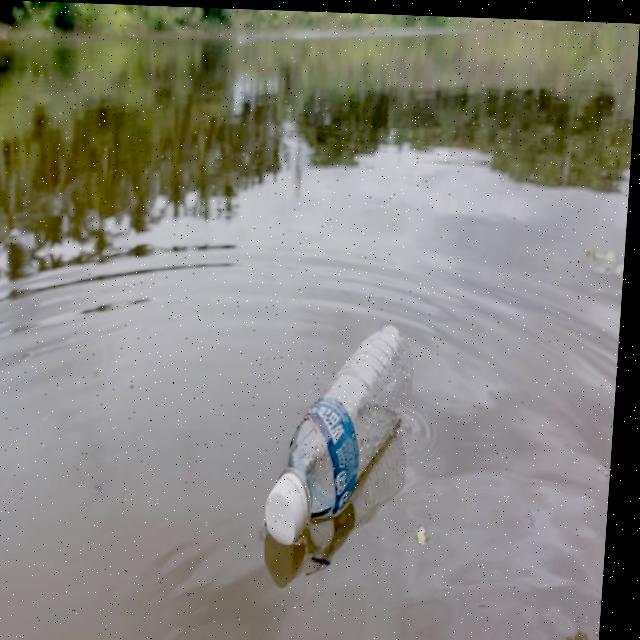waterbottle: (229, 294, 440, 554)
